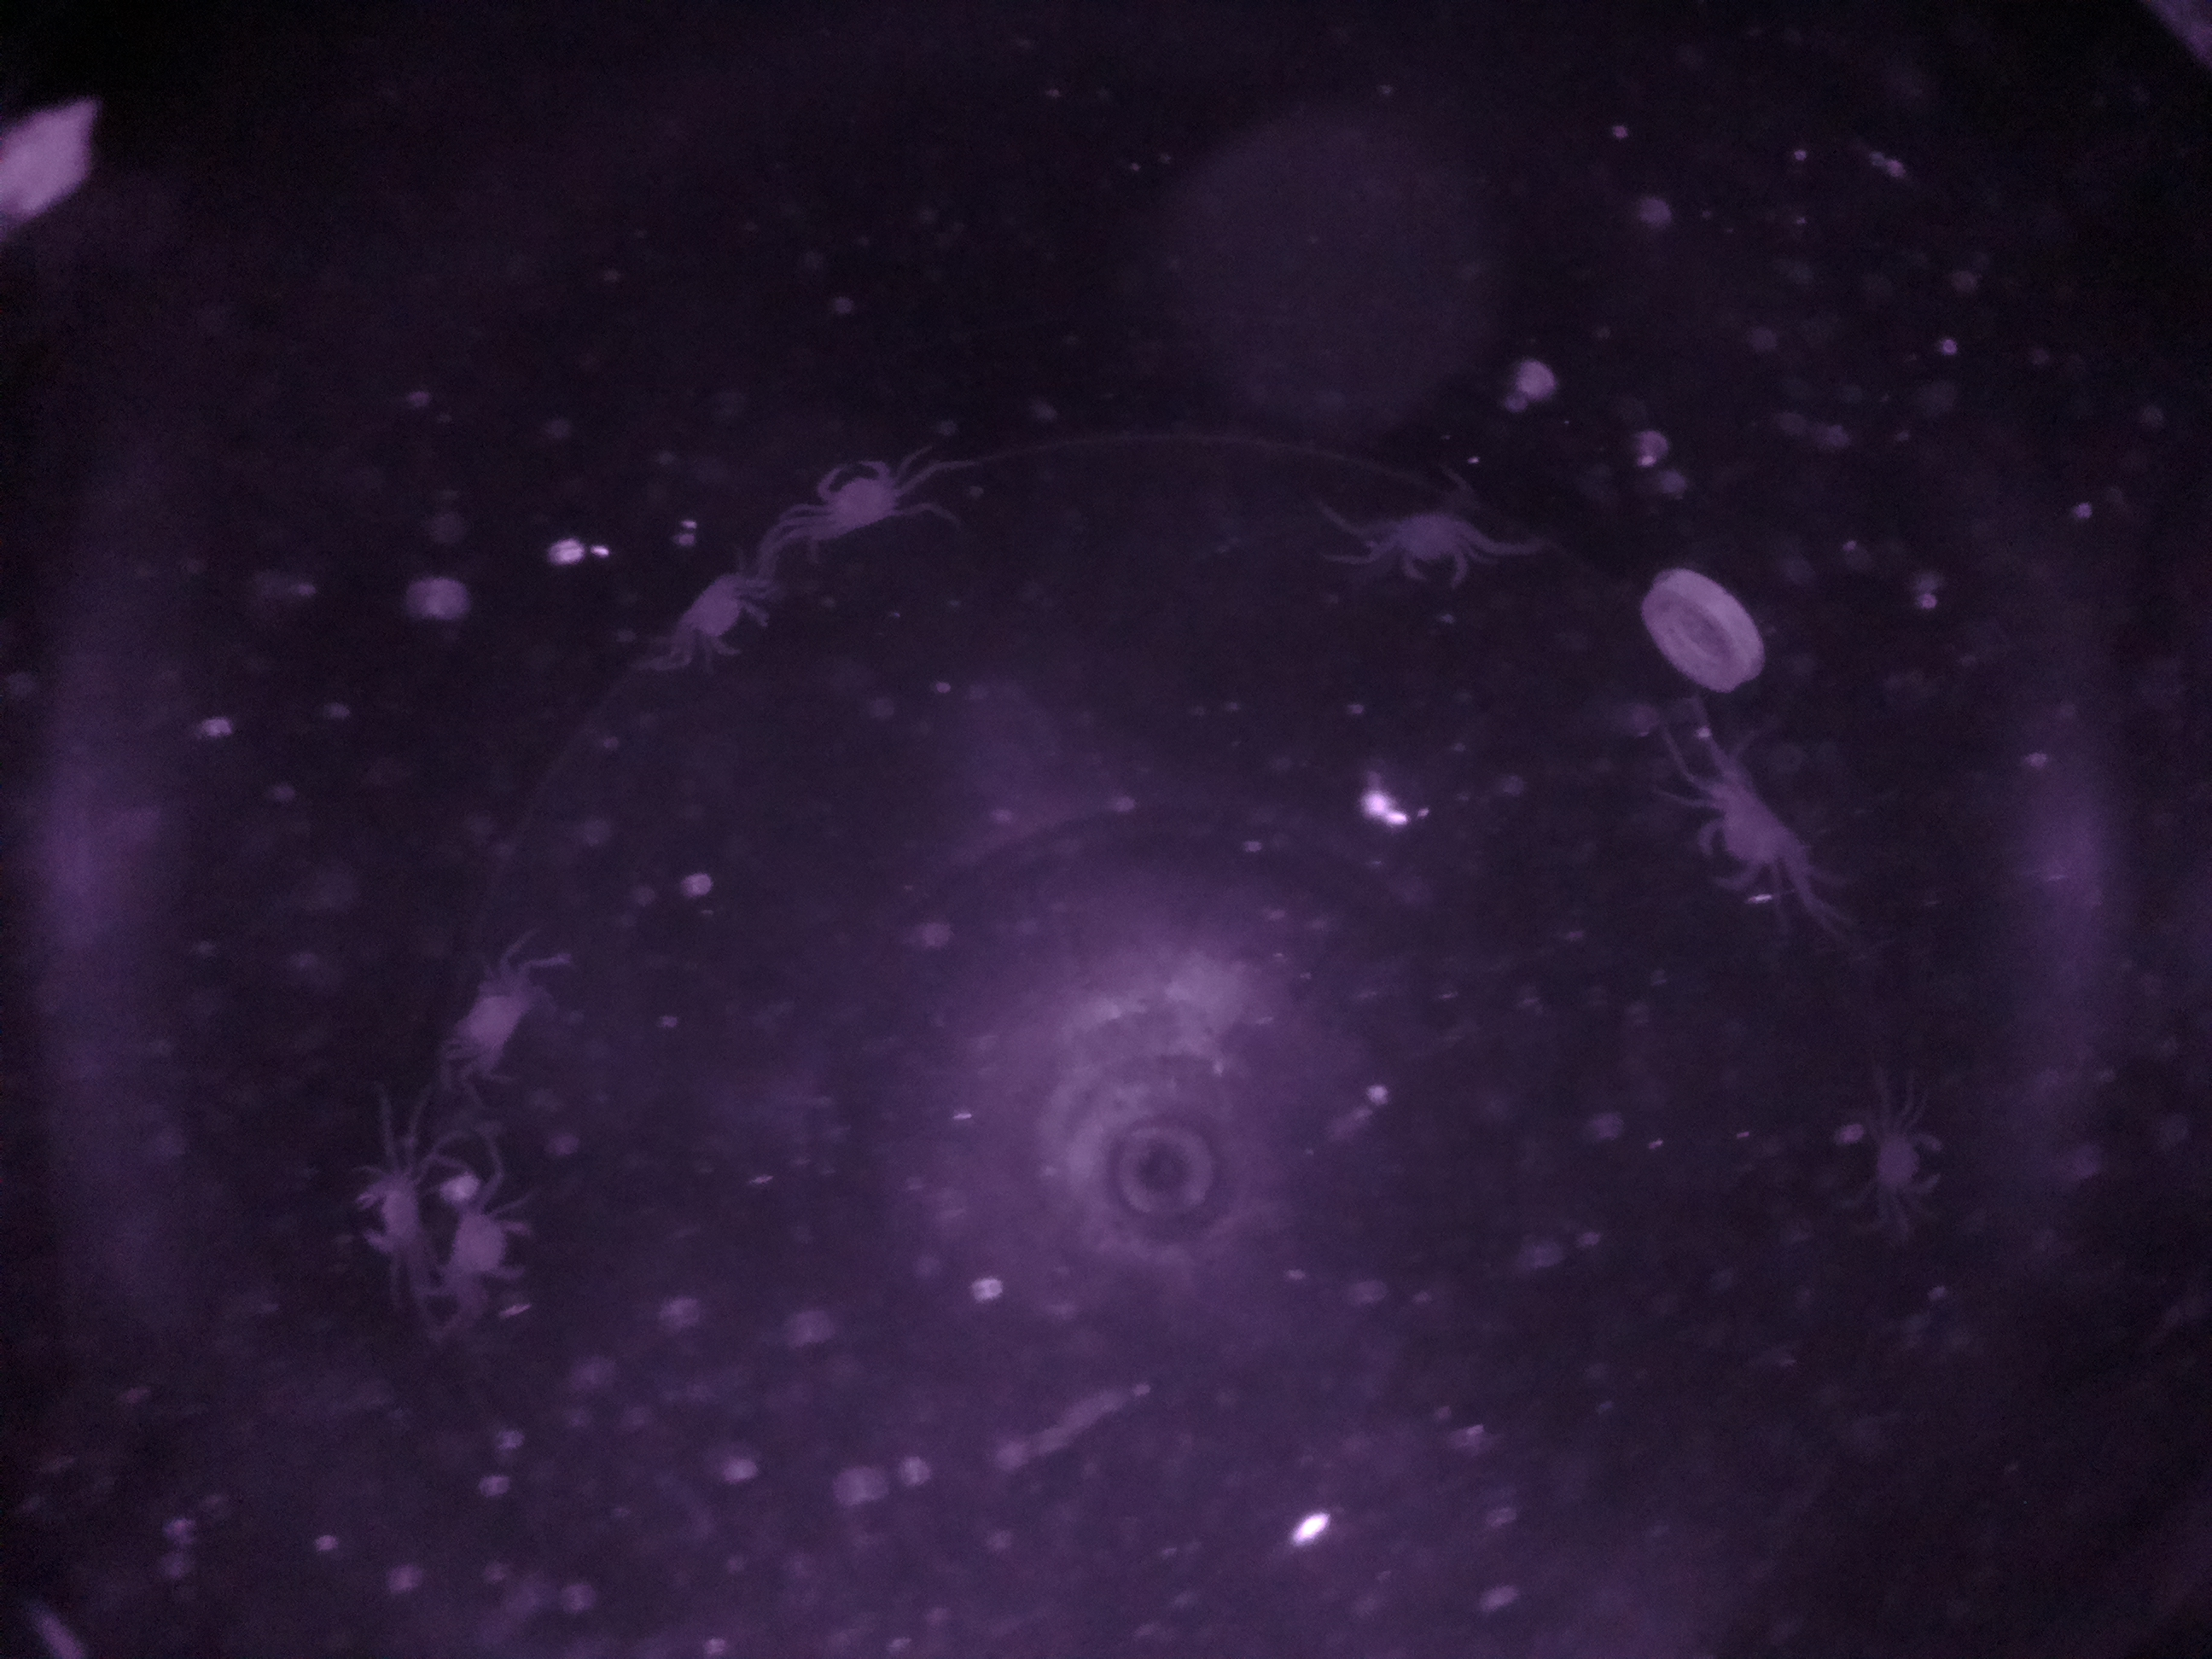Crab: (1681, 758, 1810, 924), (789, 432, 949, 559), (421, 955, 570, 1089), (427, 1178, 549, 1319), (669, 559, 803, 685), (1369, 484, 1493, 610), (341, 1145, 442, 1284)
